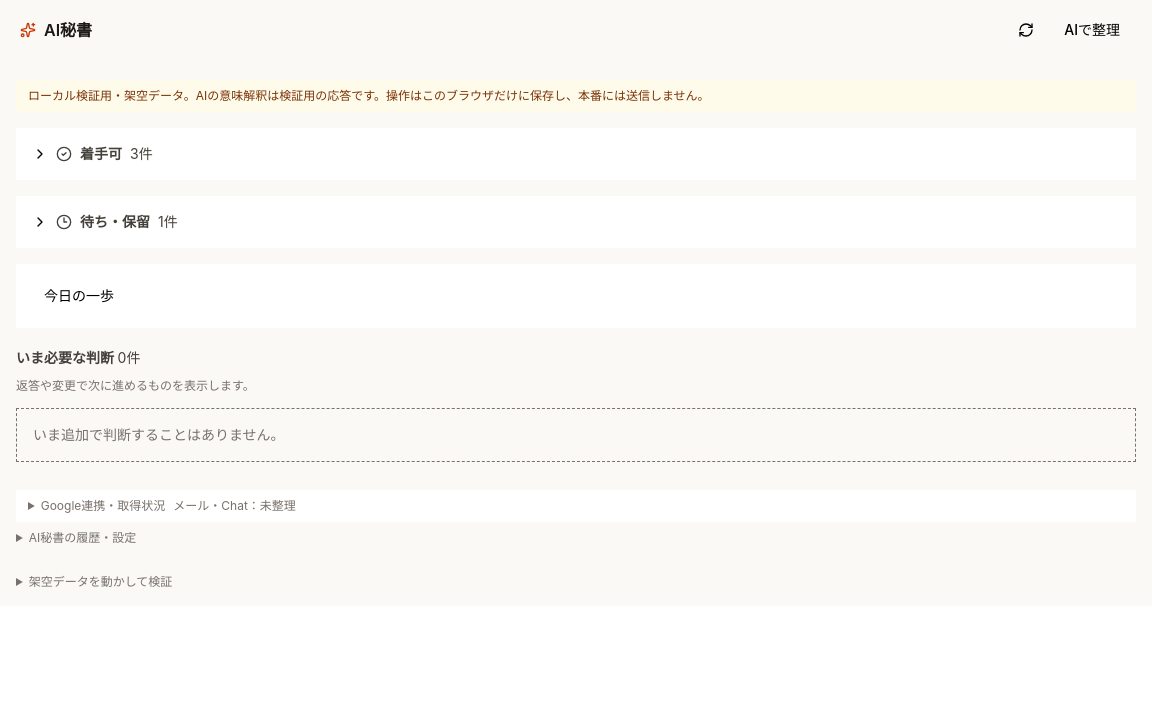
Test: preserves accepted holds and their undo when old questions are hidden
Click the heading "待ち・保留 1件" at (105, 222), box [32,213,178,230]
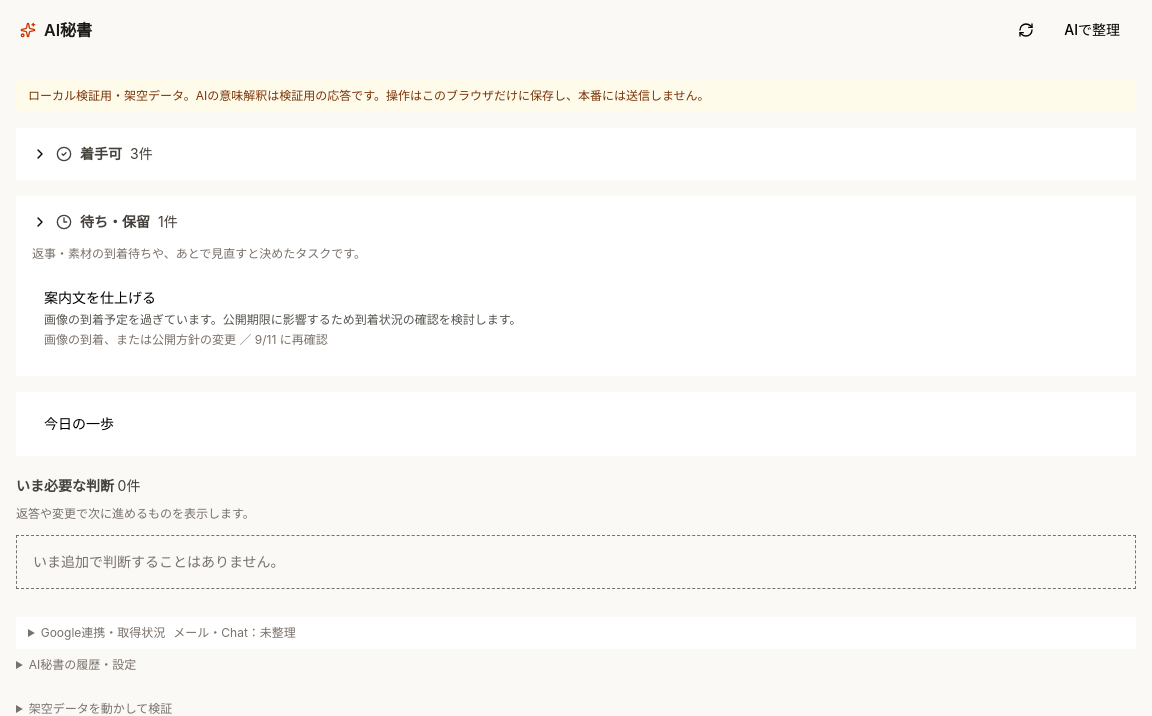
Expected: the element "待ち・保留" shows "案内文を仕上げる", [44,288,156,308]
Click the heading "AI秘書の履歴・設定" at (82, 664), box [29,657,136,672]
(page scrolled)
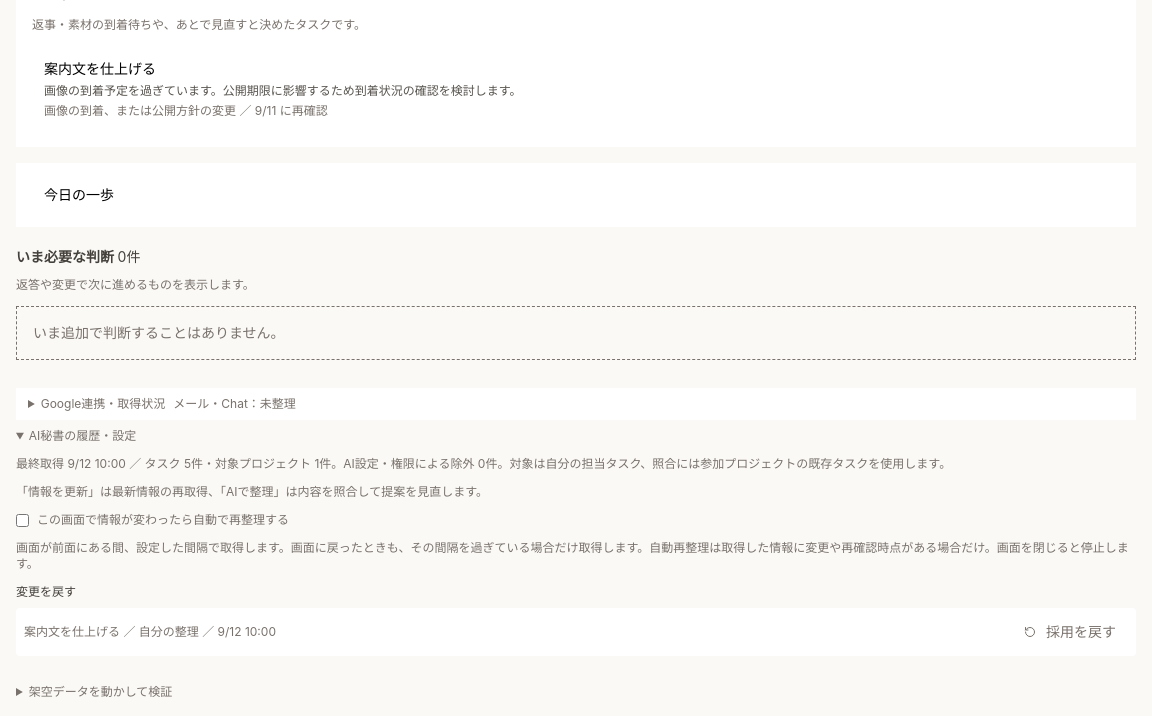
Expected: the button "採用を戻す" is enabled, [1012,616,1128,648]
